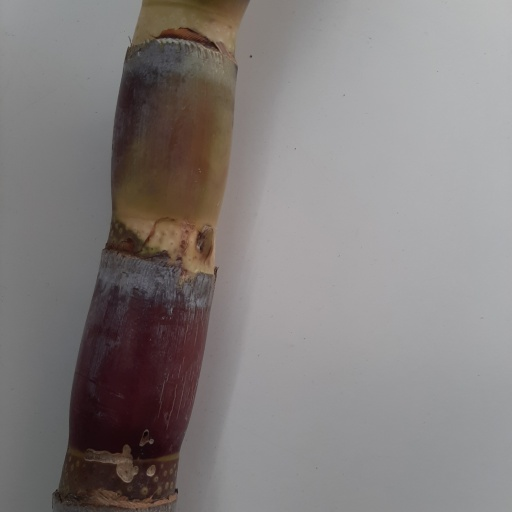Bud: (196, 223, 215, 262)
